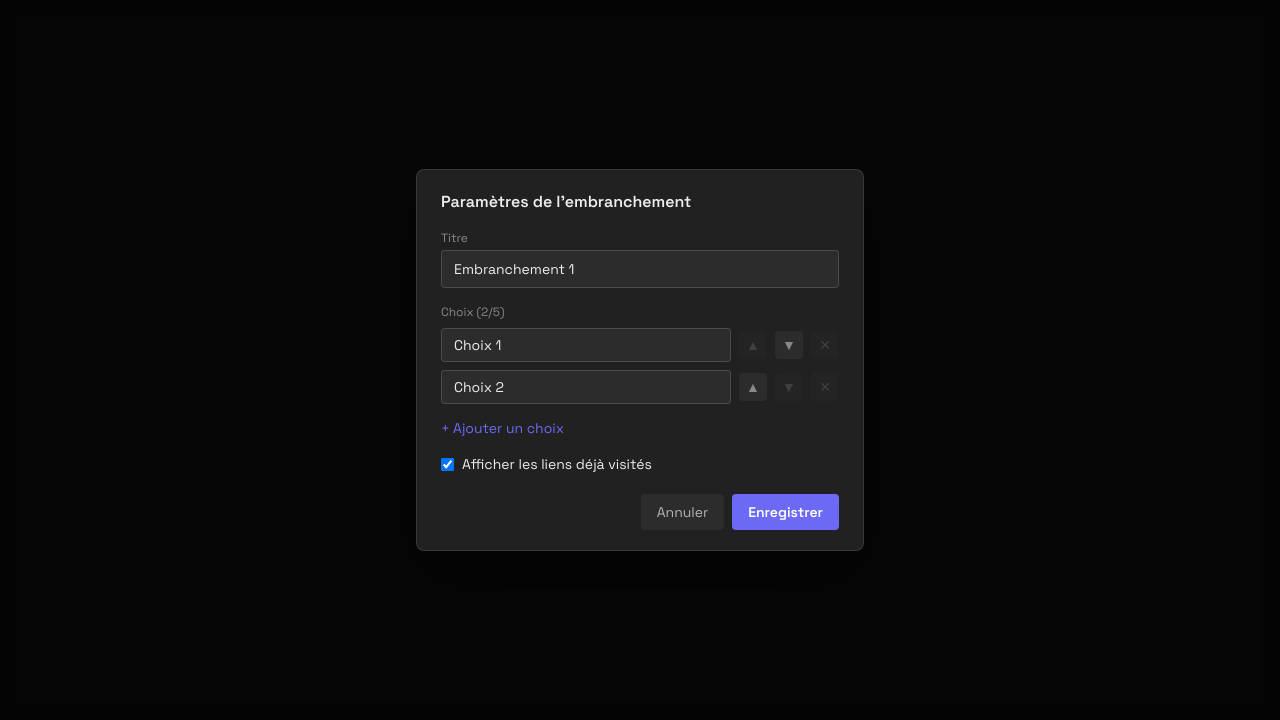
Test: BranchSettingsModal › ajoute un choix (max 5)
Click the button "+ Ajouter un choix" at (502,428), box [441,418,564,438]
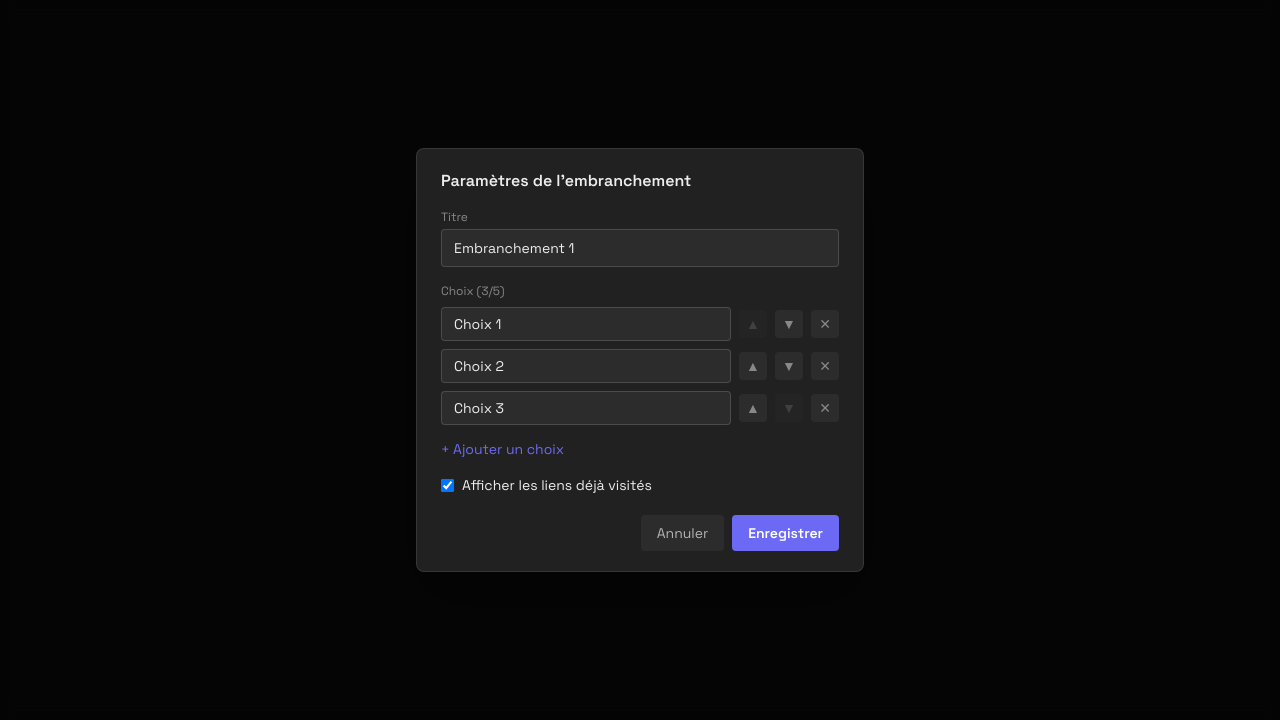
Click the button "+ Ajouter un choix" at (502,449), box [441,439,564,459]
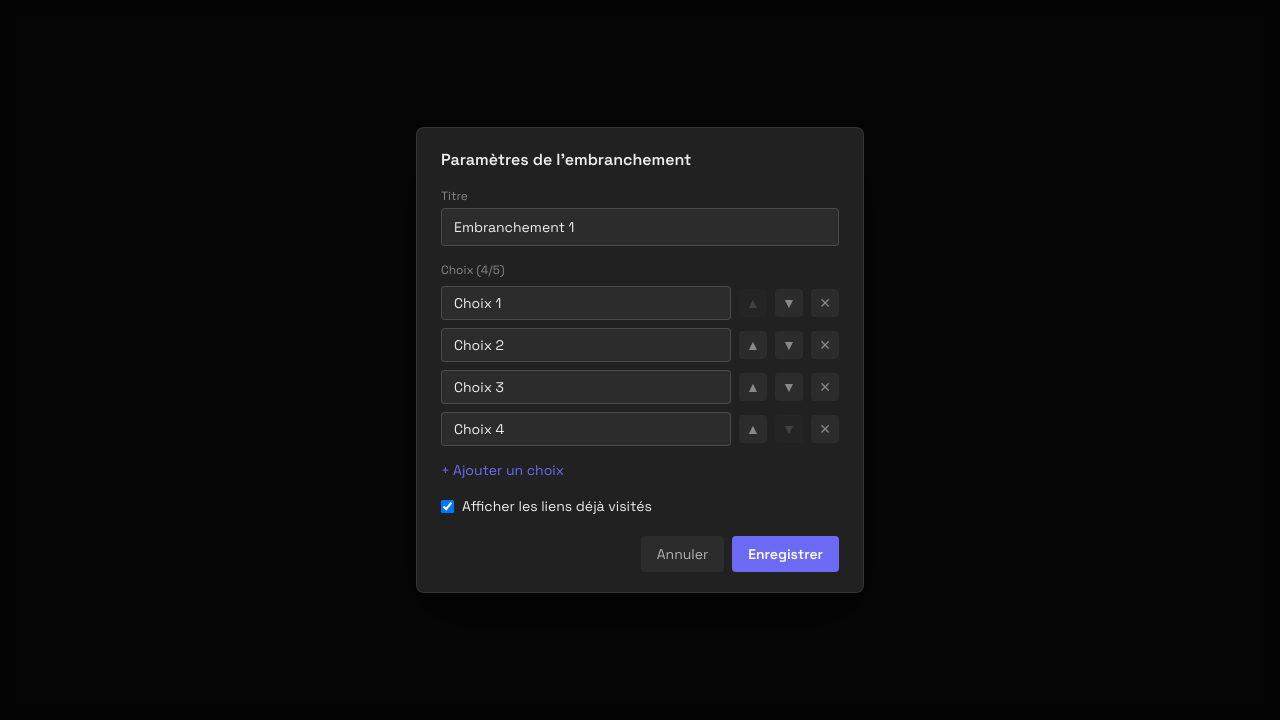
Click the button "+ Ajouter un choix" at (502,470), box [441,460,564,480]
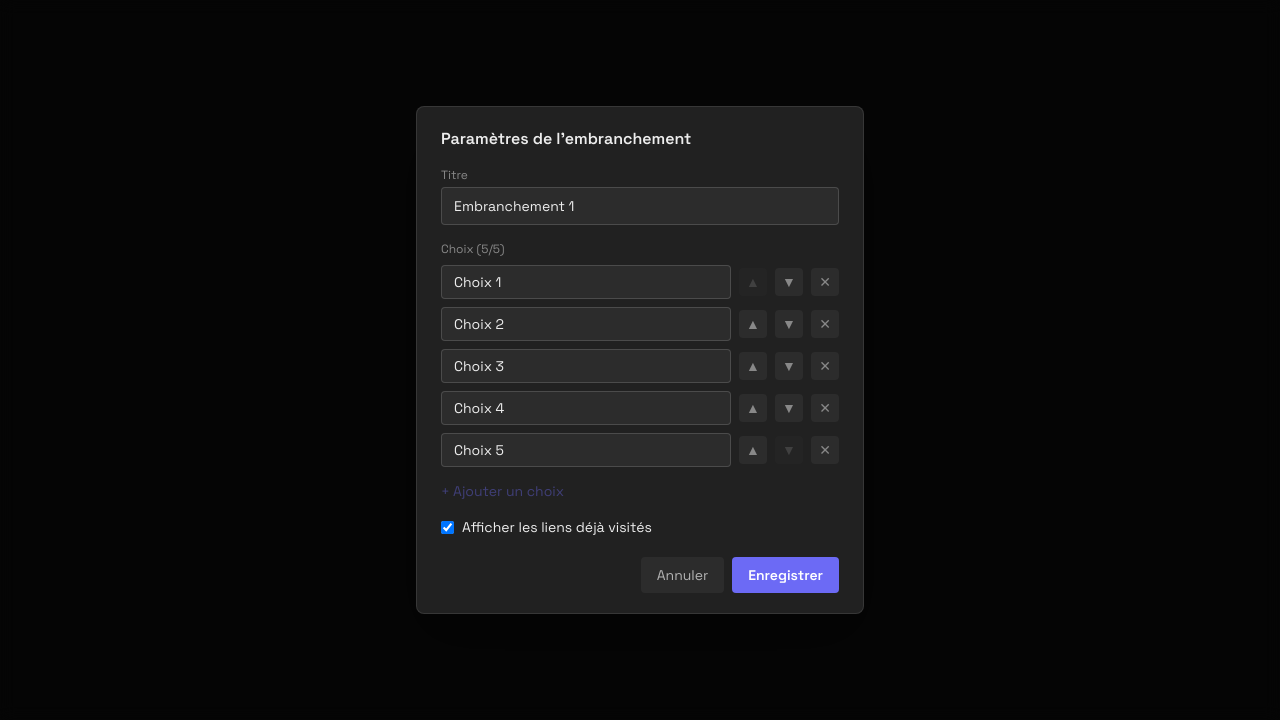
Expected: the 6th field showing "Choix 5" is shown, [441,433,731,467]
Expected: the button "+ Ajouter un choix" is disabled, [441,481,564,501]
